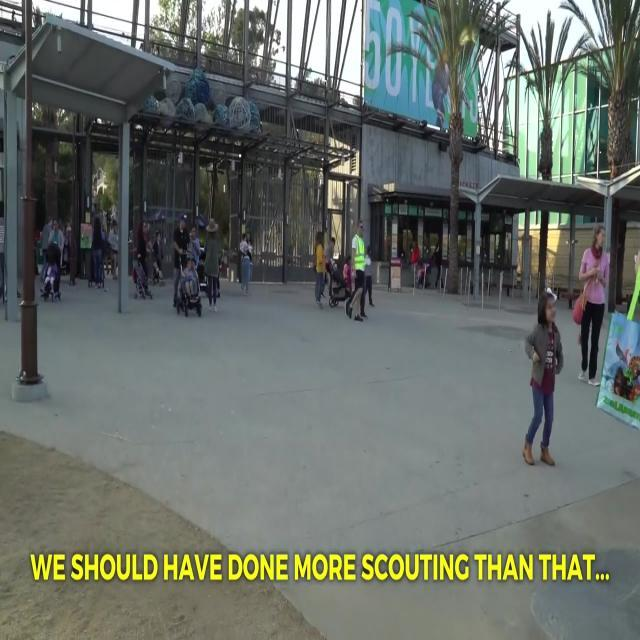reflective_jacket: (353, 233, 367, 271)
